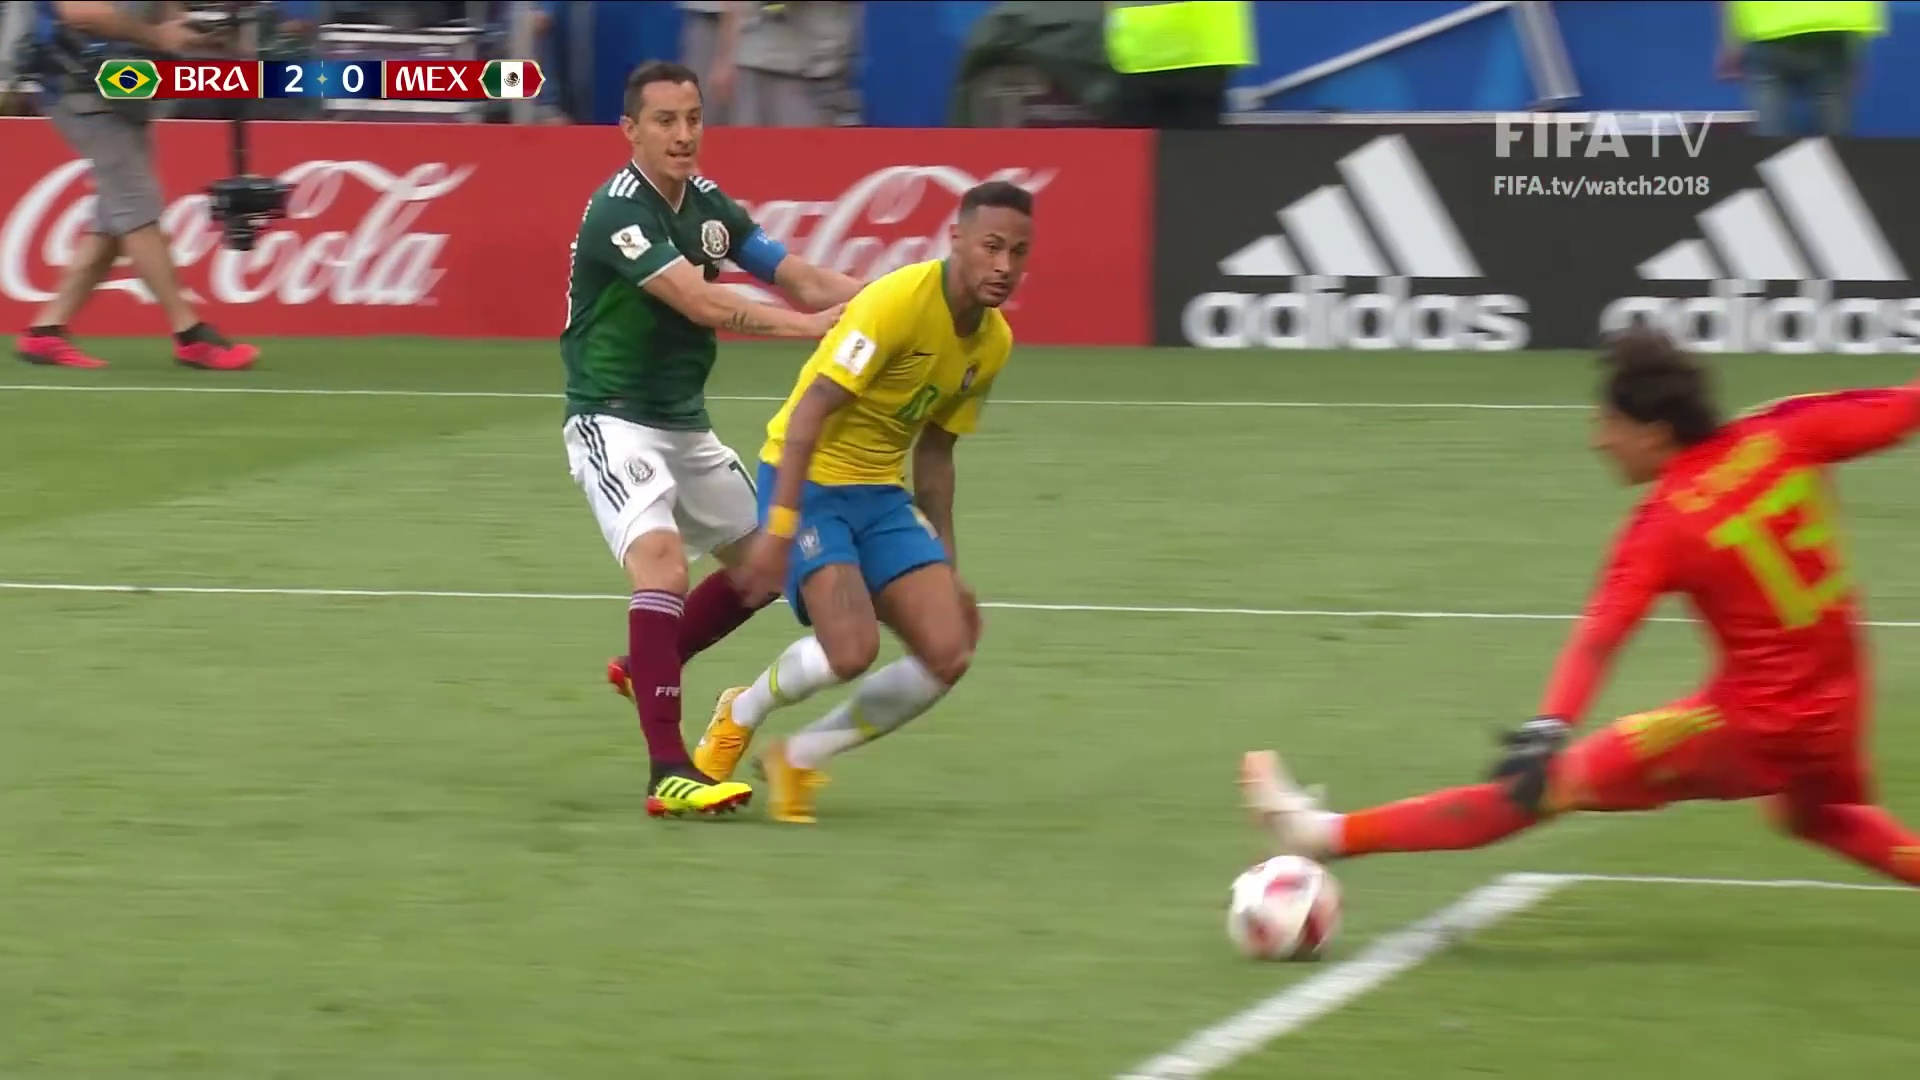ball: (1232, 863, 1334, 963)
person: (1244, 318, 1920, 894), (573, 63, 834, 811), (757, 190, 1030, 820)
